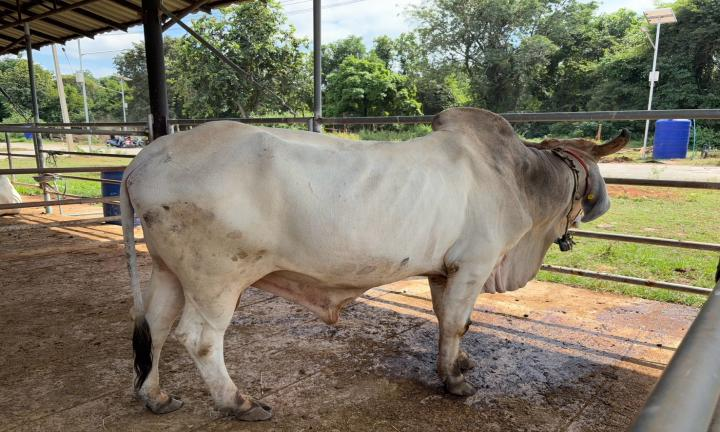Brahman: (120, 108, 629, 421)
